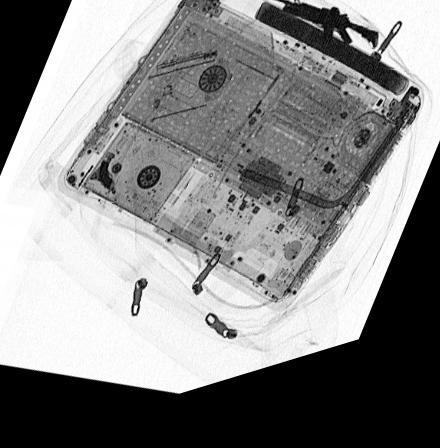Gun: (228, 0, 379, 71)
